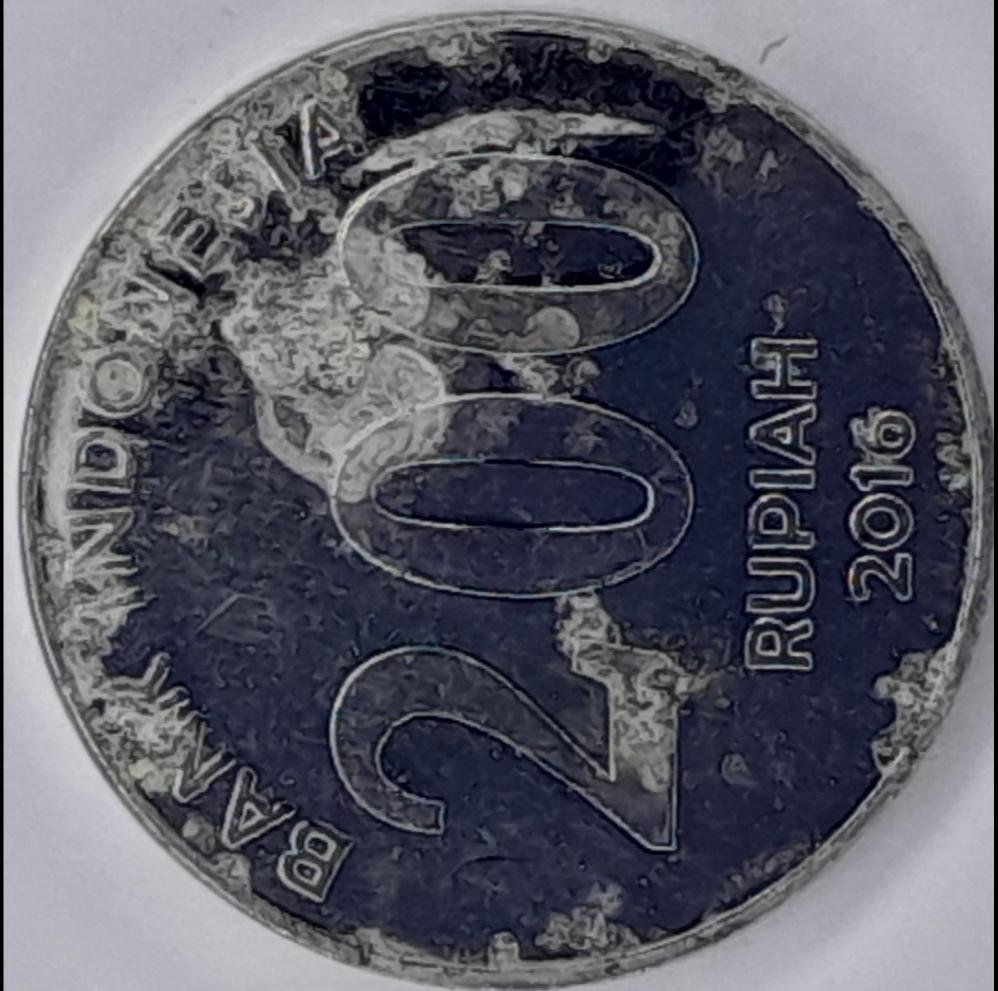coin_200_e2016: (0, 17, 998, 991)
